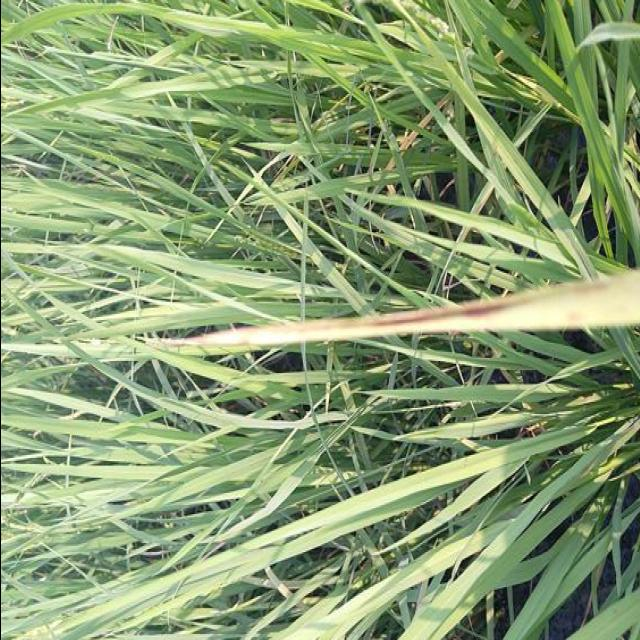Leaf Blight: (144, 268, 640, 347)
